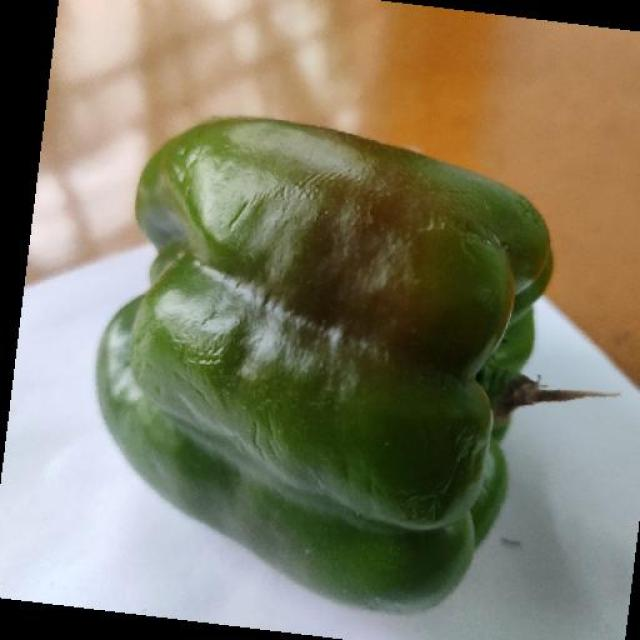Stale_Capsicum: (109, 81, 560, 638)
